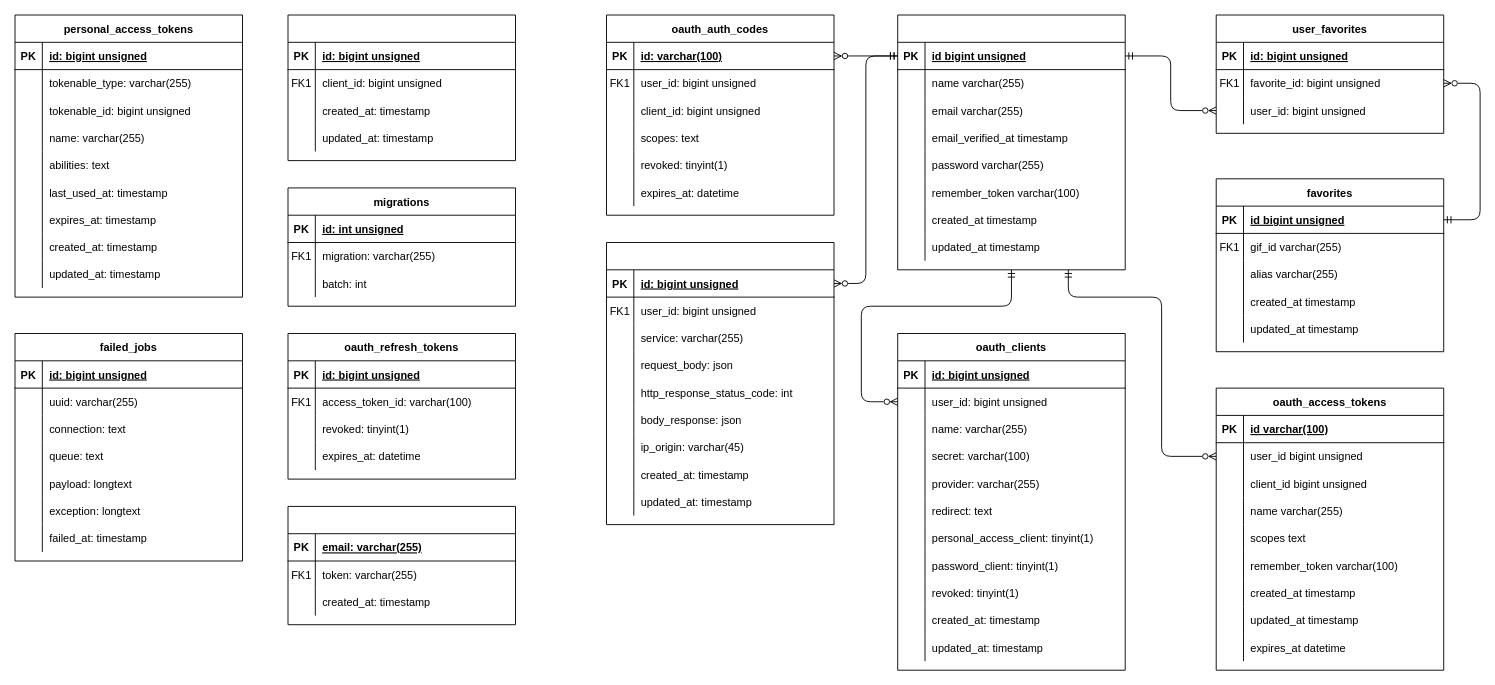
Image size: 1495x685. Some labels were removed from this diagram. Each missing label, with the box of its shape:
oauth_personal_access_clients: (287, 14, 516, 161)
password_reset_tokens: (287, 506, 516, 625)
request_logs: (606, 242, 834, 525)
users: (897, 14, 1125, 270)
